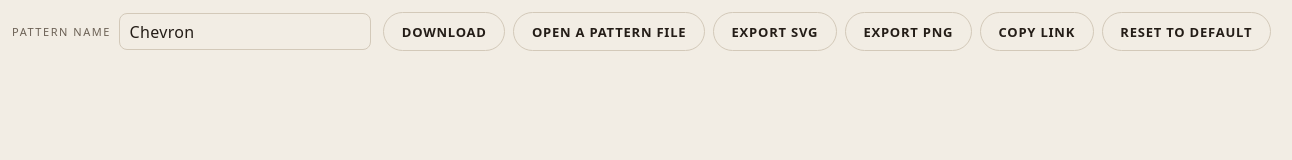
it: FileMenu image export › says so when the browser cannot rasterise a PNG, rather than failing silently
Click the button "Export PNG": {"x": 908, "y": 32} [845,12,972,51]
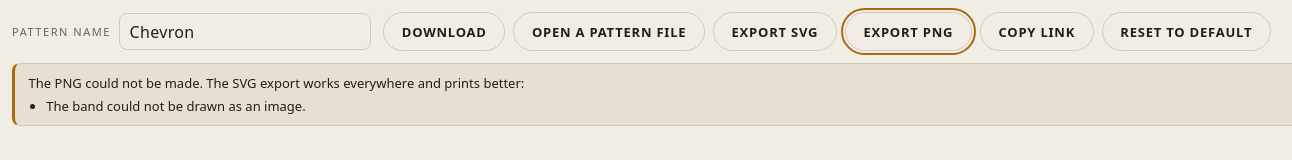
Check: the message shows "PNG could not be made", box [29,74,524,92]
